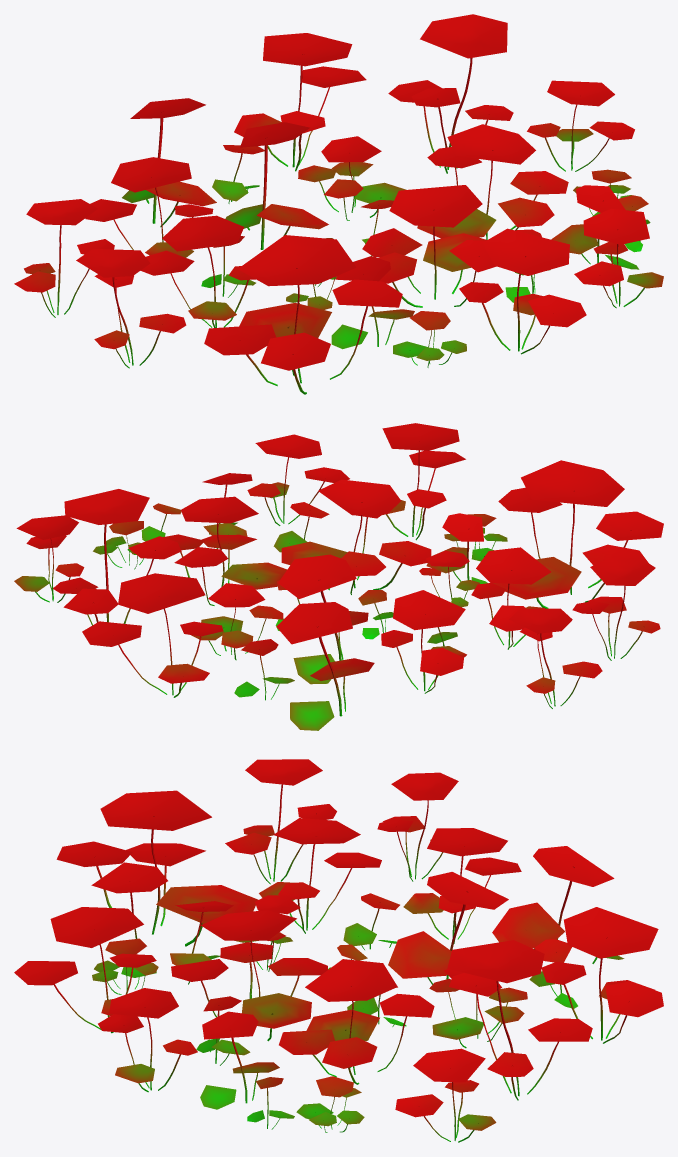
The model's file is Wood Sorrel_LOD0_Var4_wcwmchzja.fbx.
3 renders of one model, top to bottom at view 1: azimuth 30°, elevation 25°; view 2: azimuth 150°, elevation 25°; view 3: azimuth 270°, elevation 25°, orthographic. The views are drawn at different scales.
Visible parts, largest first — view 1: _33aj_Var4_LOD0; view 2: _33aj_Var4_LOD0; view 3: _33aj_Var4_LOD0.
Boxes of the visible parts, x1,y1,x2,y2 form: _33aj_Var4_LOD0: (14, 14, 663, 394); _33aj_Var4_LOD0: (14, 423, 663, 730); _33aj_Var4_LOD0: (14, 759, 663, 1142).
Size of the model in its own units: 35.76 by 8.11 by 32.24.
